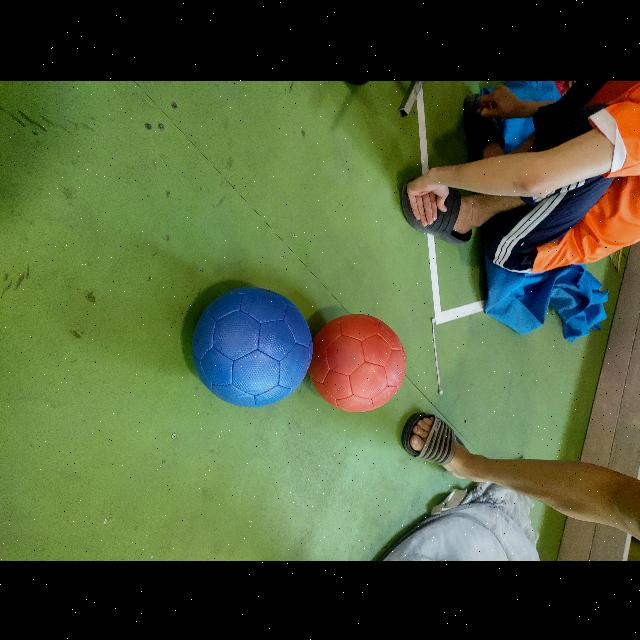B: (192, 286, 312, 406)
R: (309, 314, 405, 411)
